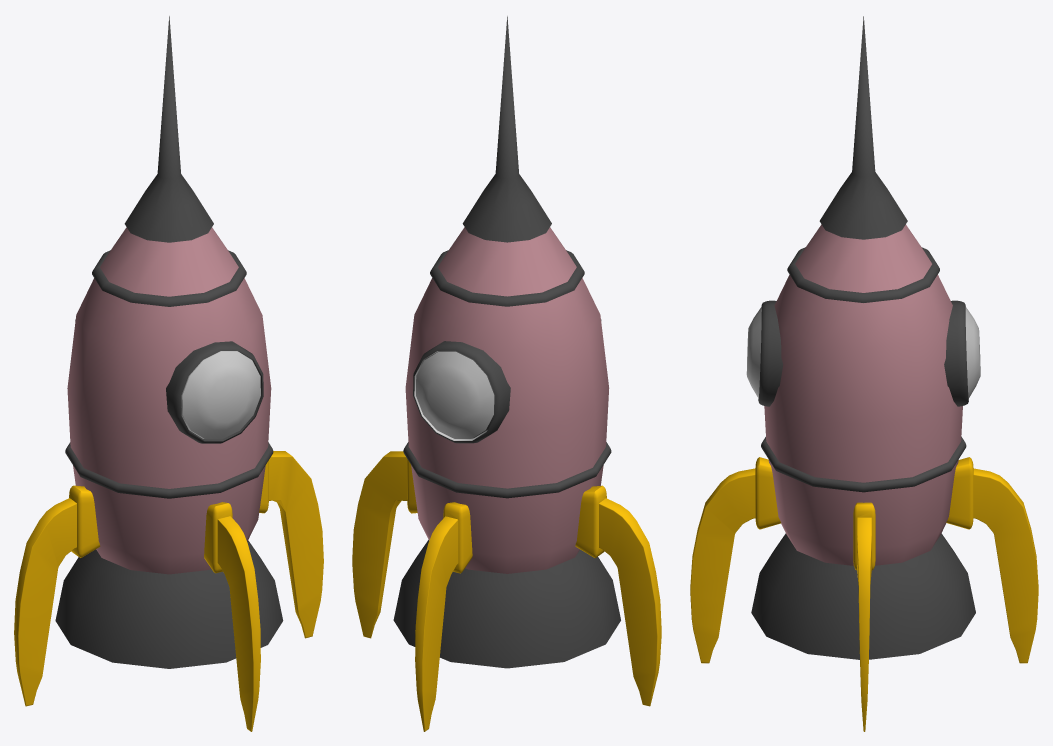
Rendered from Rocket_3.fbx.
3 renders of one model, left to right at view 1: azimuth 30°, elevation 25°; view 2: azimuth 150°, elevation 25°; view 3: azimuth 270°, elevation 25°, orthographic.
Parts seen in each view (by area): view 1: Rocket_3; view 2: Rocket_3; view 3: Rocket_3.
Part boxes in pixels (left/top/right/bottom): Rocket_3: left=14, top=16, right=323, bottom=731; Rocket_3: left=352, top=16, right=661, bottom=731; Rocket_3: left=690, top=16, right=1038, bottom=731.
Bounding box in the file's own units: 0.3624 × 0.7447 × 0.3624.
